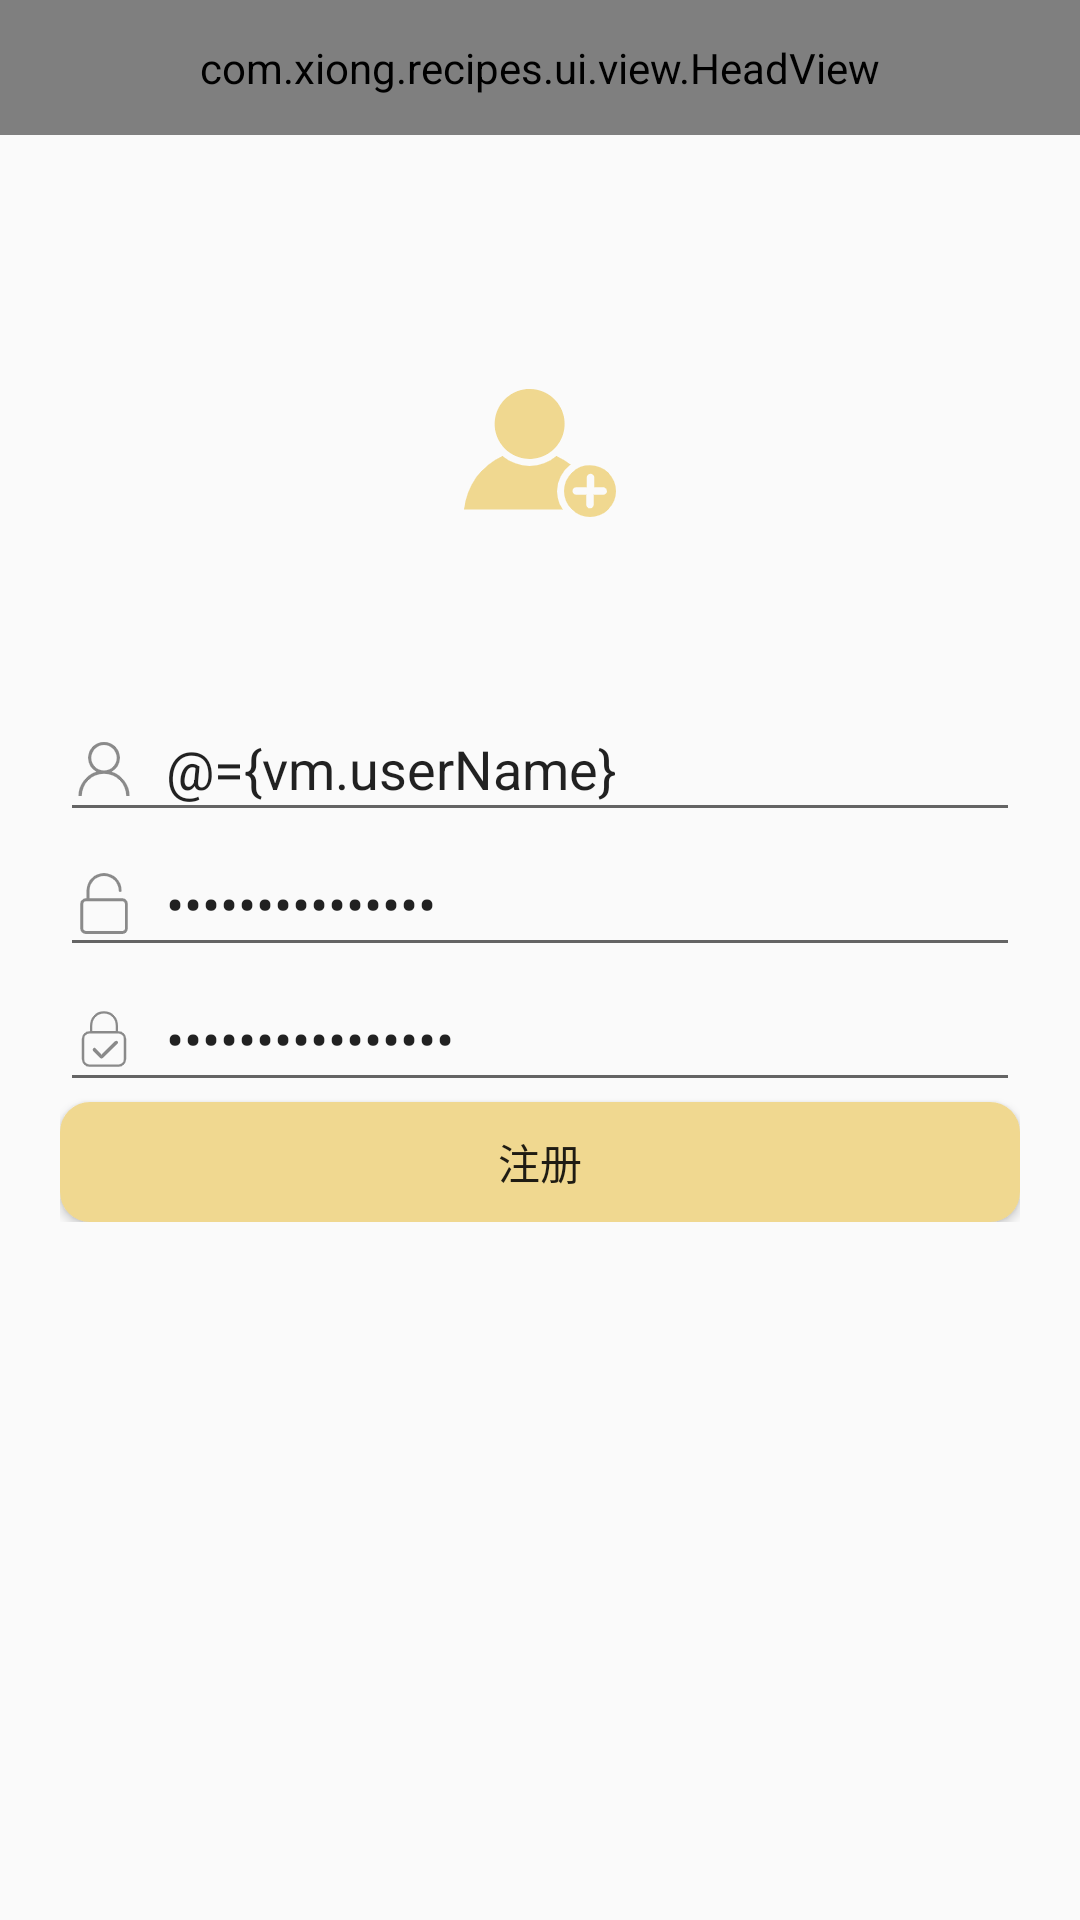

Icons on this 1080w x 1920h Android screen, each with its box as detection(x1, y1, x2, y2):
regist: detection(464, 389, 616, 517)
